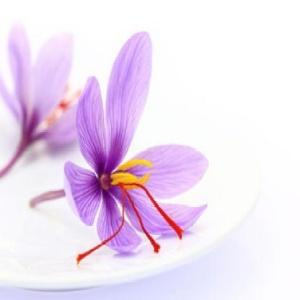Saffron: (64, 31, 209, 254), (0, 23, 86, 147)
